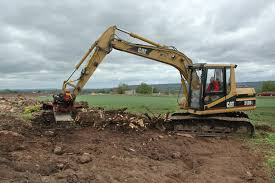excavator: (39, 25, 257, 143)
